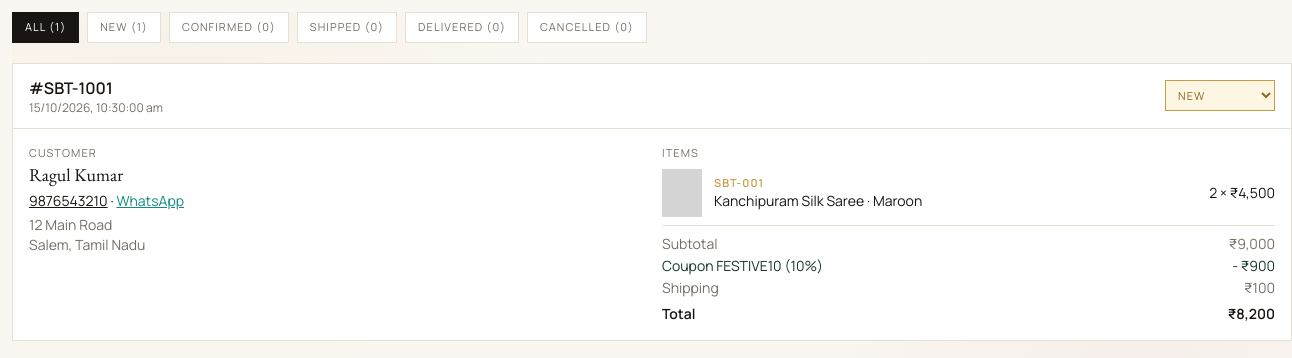
Scenario: AdminOrders › shows an empty state when the selected status has no orders
The image size is (1292, 358).
What coordinates should you click on to do the following:
click the button "delivered (0)"
I would click on:
 (462, 27)
Its box is top-left (405, 12), bottom-right (519, 42).
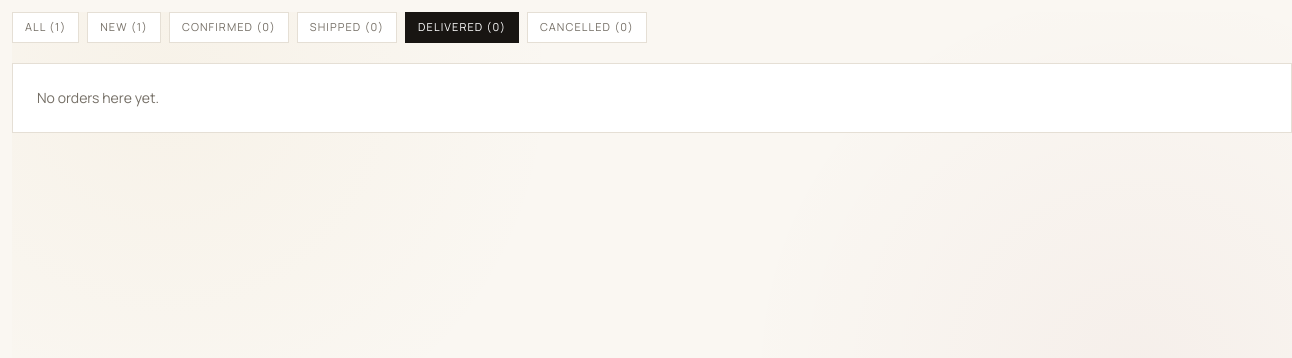
Check: the text "No orders here yet." is shown, box top-left (12, 62), bottom-right (1291, 132)
Check: the text "#SBT-1001" is gone
